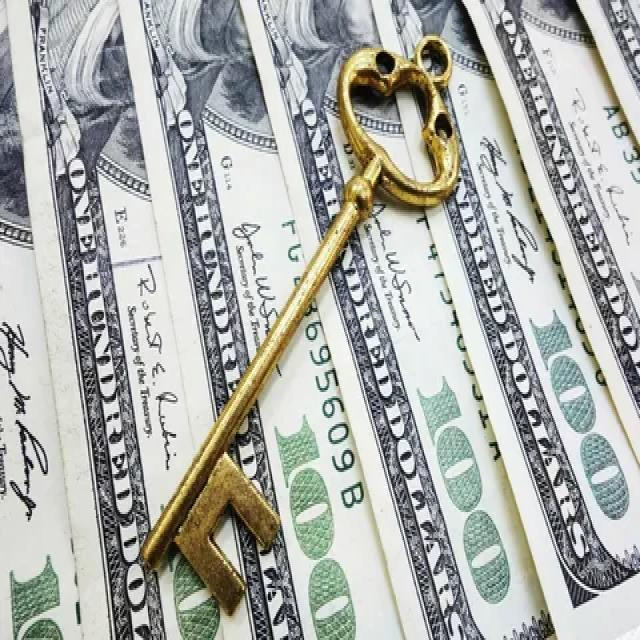key: (134, 0, 476, 625)
